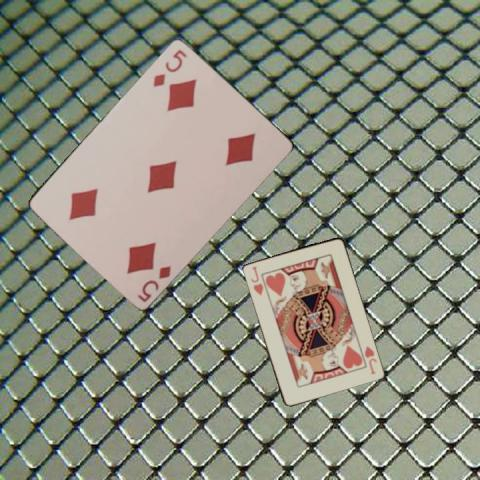5d: (150, 46, 189, 88), (134, 262, 172, 303)
Jh: (247, 263, 265, 296), (361, 343, 378, 375)
